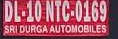0: (74, 1, 83, 22), (34, 1, 42, 23)
1: (82, 1, 92, 23), (25, 1, 34, 23)
6: (90, 1, 99, 22)
9: (98, 1, 107, 23)
C: (61, 1, 70, 22)
D: (3, 1, 14, 23)
L: (13, 1, 22, 23)
N: (45, 1, 55, 23)
T: (53, 1, 61, 22)
